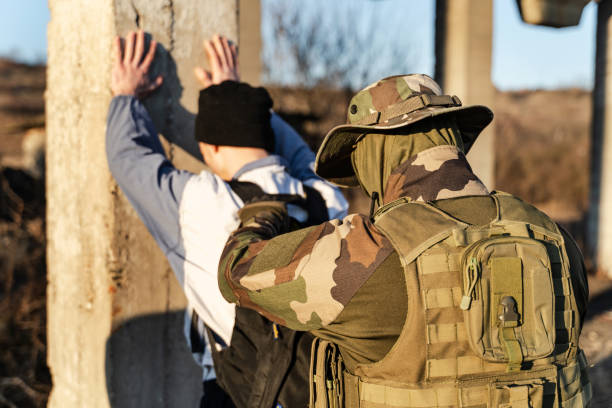terrorist: (177, 64, 303, 189)
